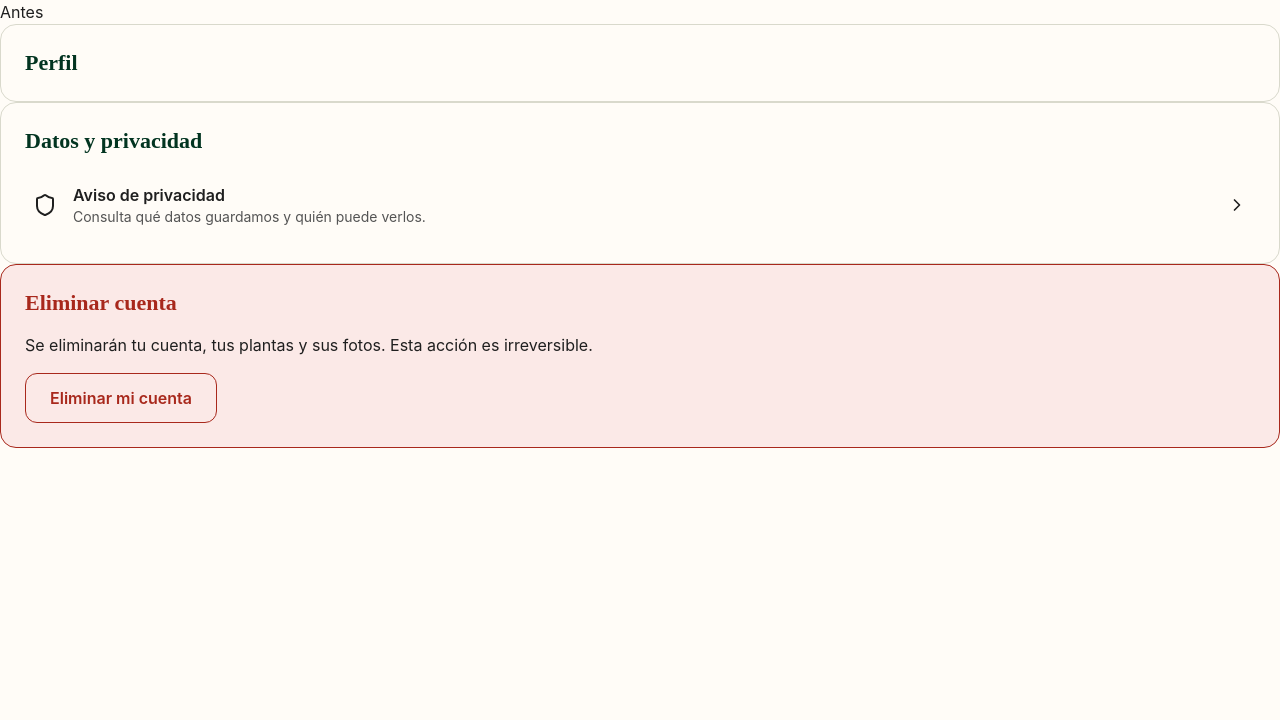
AccountView › si Clerk rechaza al final: los datos ya se borraron y dice a quién escribir
Click the button "Eliminar mi cuenta": (121, 398) left=25, top=373, right=217, bottom=423
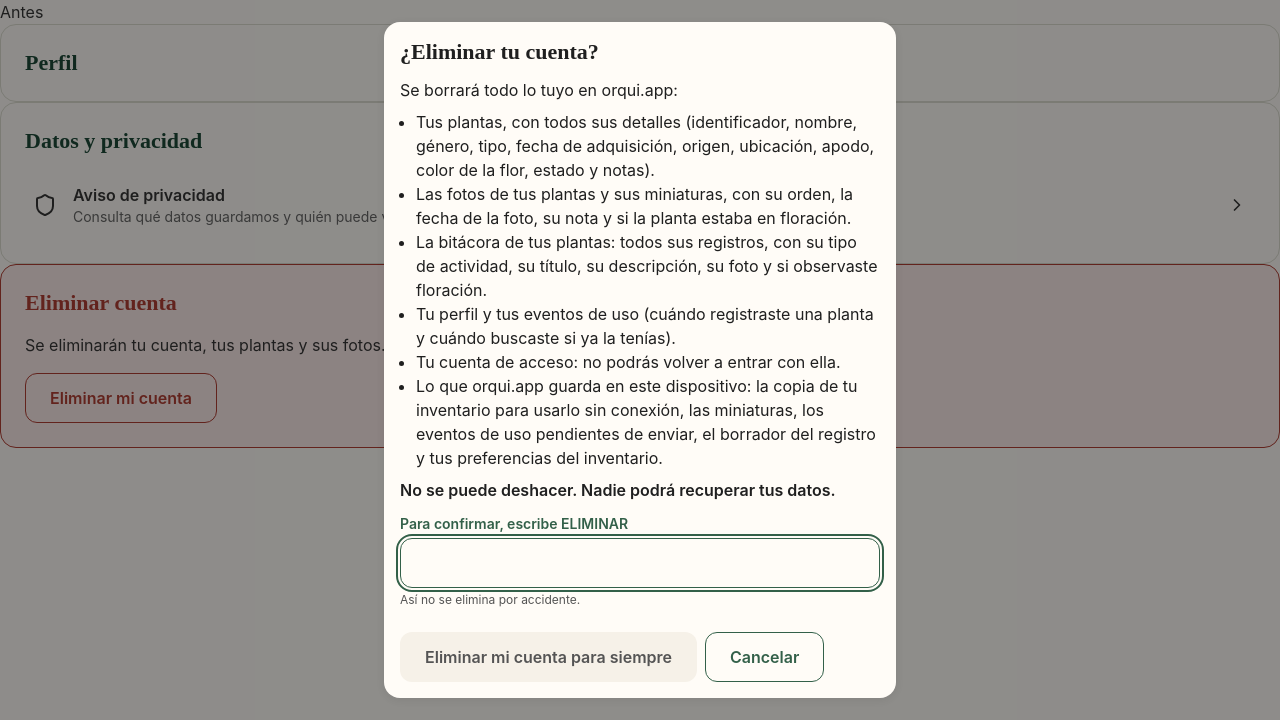
In the field labelled "Para confirmar, escribe ELIMINAR": (640, 563) left=400, top=538, right=880, bottom=588, type "ELIMINAR"
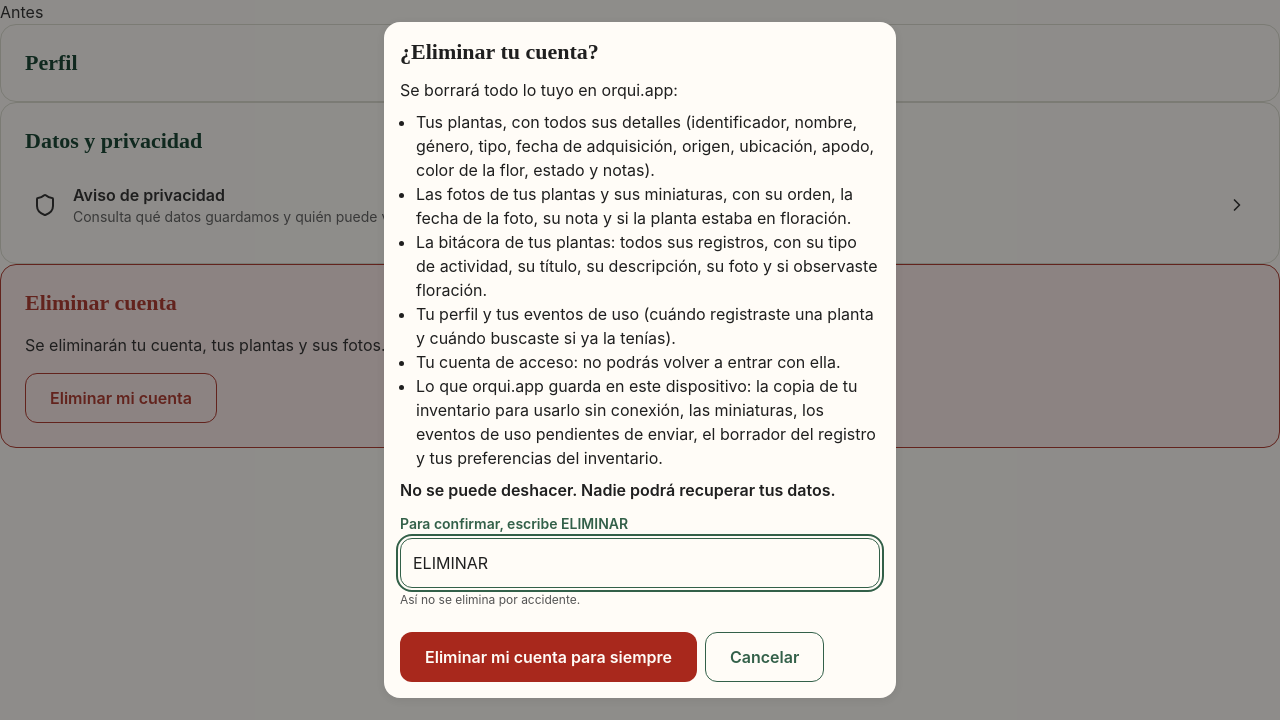
Click the button "Eliminar mi cuenta para siempre": (548, 657) left=400, top=632, right=697, bottom=682
(page scrolled)
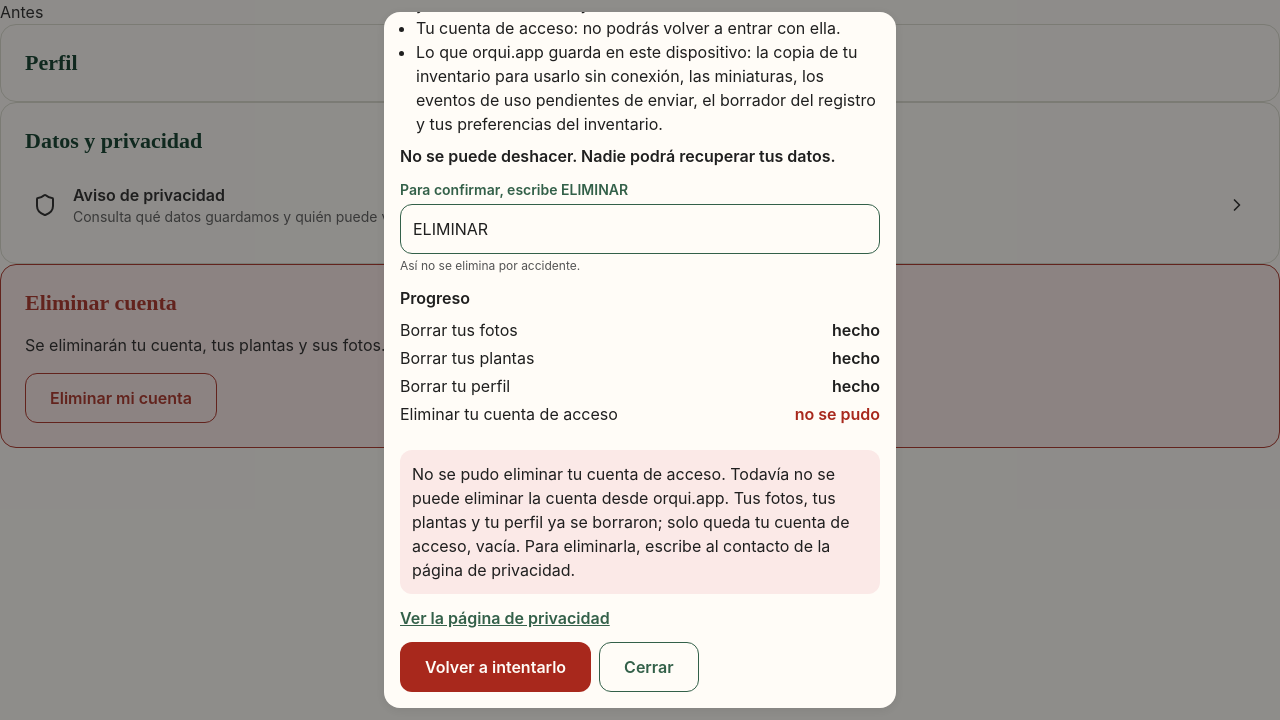
Now the message shows "Tus fotos, tus plantas y tu perfil ya se borraron; solo queda tu cuenta de acceso, vacía.", box left=412, top=464, right=850, bottom=580
Now the message shows "escribe al contacto de la página de privacidad", box left=412, top=464, right=850, bottom=580
Click the button "Cerrar": (649, 667) left=599, top=642, right=699, bottom=692
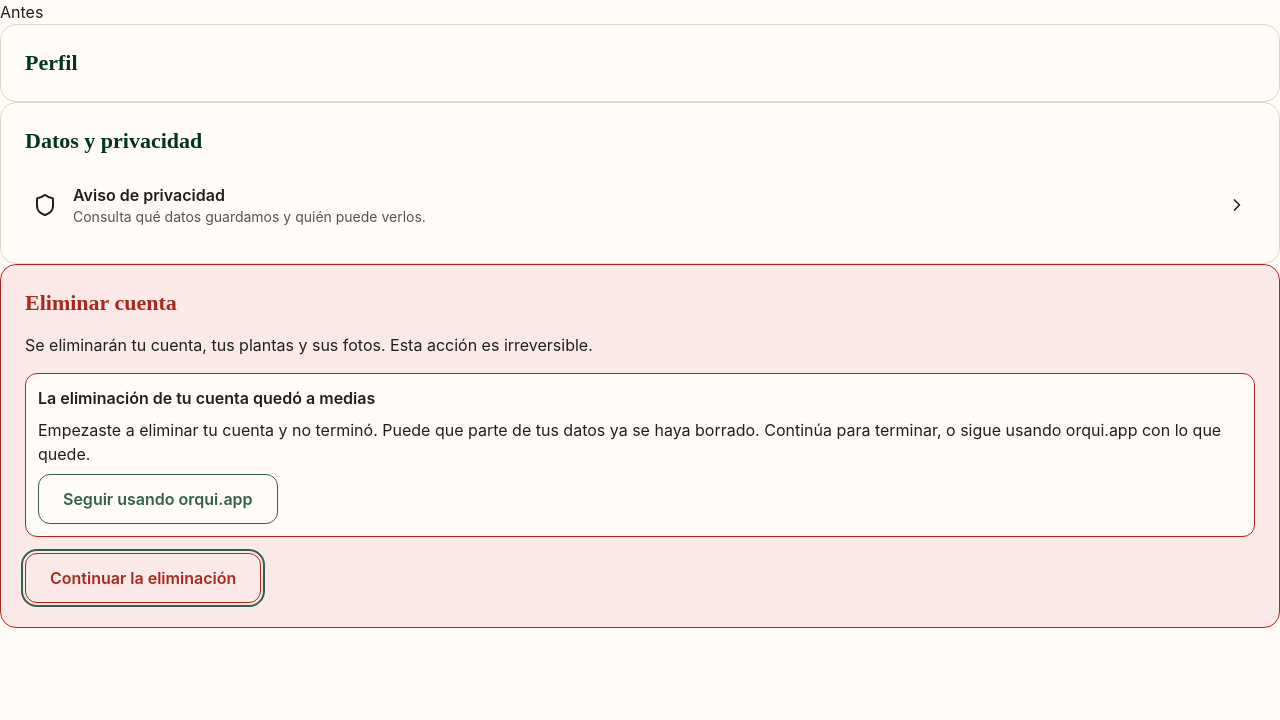
Now the heading "La eliminación de tu cuenta quedó a medias" is shown, box left=38, top=388, right=375, bottom=408
